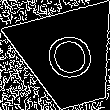O_S: (39, 29, 99, 90)
